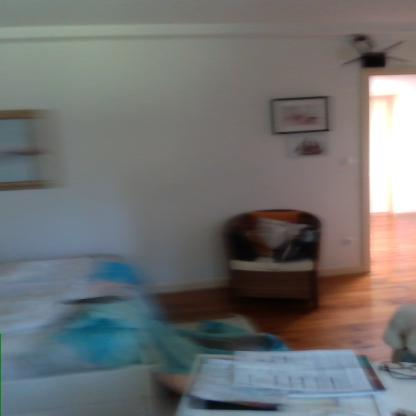semi: (344, 68, 415, 288)
